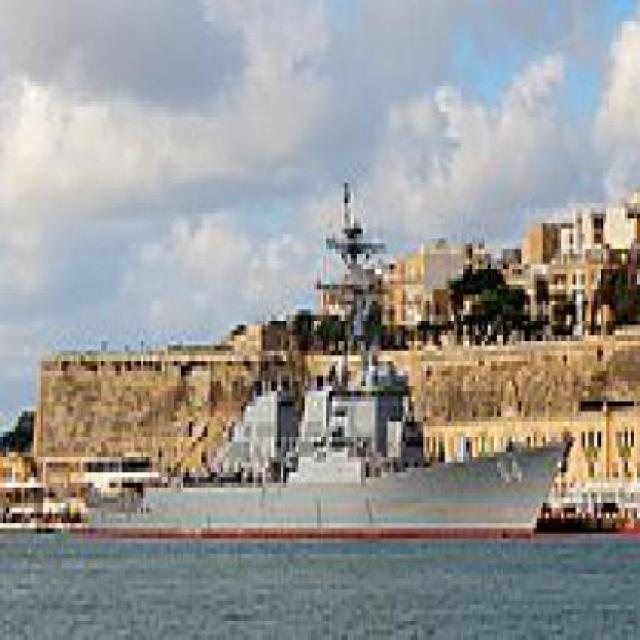warship2: (56, 219, 587, 565)
